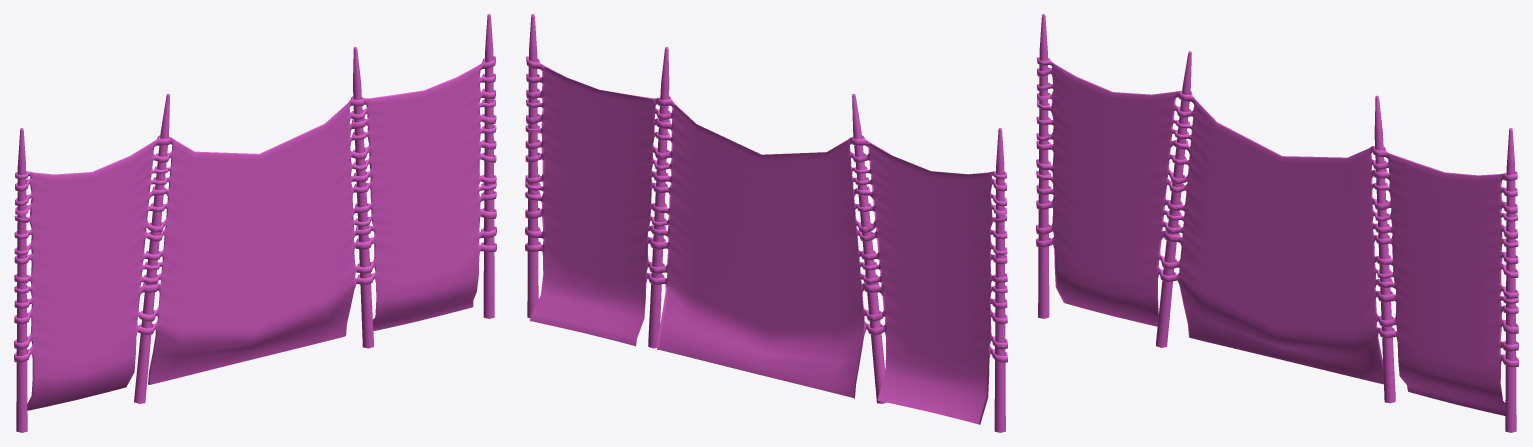
Rendered from Laine_boucle.fbx.
3 views of the same model, side by side, from view 1: azimuth 30°, elevation 25°; view 2: azimuth 150°, elevation 25°; view 3: azimuth 330°, elevation 25° (orthographic).
Parts seen in each view (by area): view 1: Laine_boucle, Cone002, Cone003, Cone004, Cone001; view 2: Laine_boucle, Cone003, Cone002, Cone001, Cone004; view 3: Laine_boucle, Cone003, Cone001, Cone004, Cone002.
Boxes of the visible parts, bbox=[...] form: Laine_boucle: bbox=[14, 56, 496, 410]; Cone002: bbox=[134, 93, 169, 403]; Cone003: bbox=[16, 128, 27, 432]; Cone004: bbox=[483, 14, 494, 318]; Cone001: bbox=[353, 47, 373, 348]; Laine_boucle: bbox=[525, 56, 1007, 424]; Cone003: bbox=[994, 128, 1005, 432]; Cone002: bbox=[852, 93, 886, 403]; Cone001: bbox=[648, 47, 669, 348]; Cone004: bbox=[527, 14, 538, 318]; Laine_boucle: bbox=[1036, 57, 1518, 415]; Cone003: bbox=[1038, 14, 1049, 318]; Cone001: bbox=[1374, 95, 1395, 403]; Cone004: bbox=[1505, 128, 1516, 432]; Cone002: bbox=[1156, 51, 1191, 347].
Size of the model in its own units: 16.95 by 10.16 by 0.8086.
